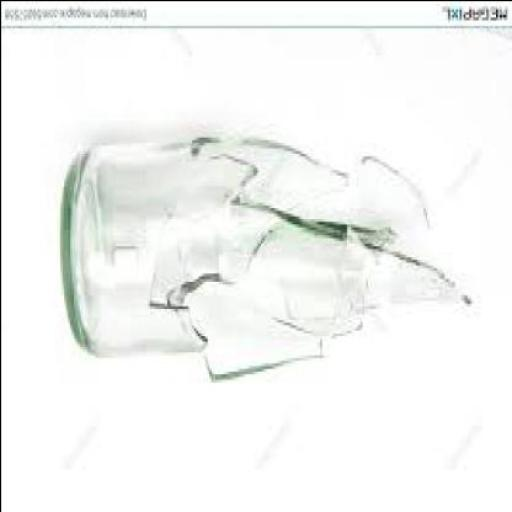glass: (59, 133, 474, 384), (62, 142, 260, 360), (244, 210, 392, 338), (196, 283, 327, 382), (191, 136, 346, 210), (344, 226, 470, 313), (356, 155, 432, 234)
